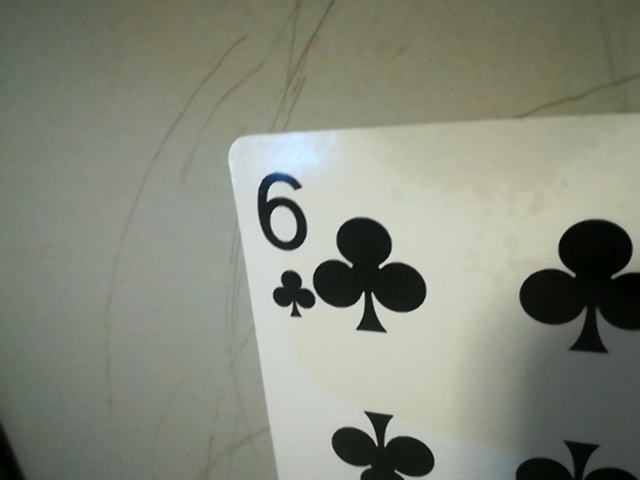mh 6: (248, 161, 314, 322)
